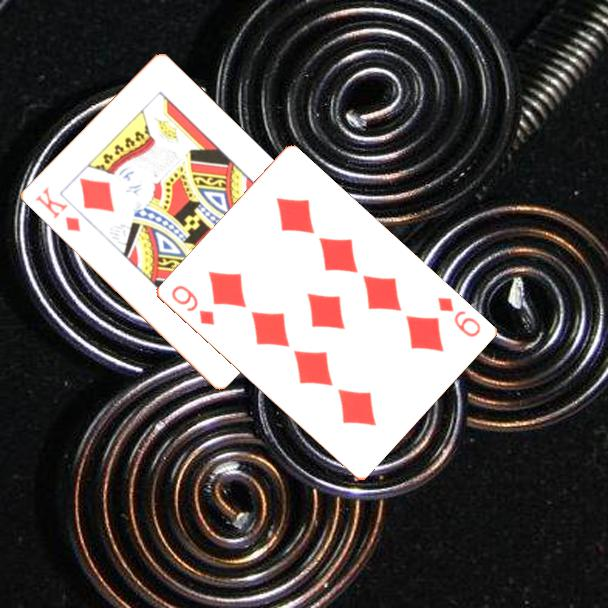d09: (167, 281, 217, 328), (433, 293, 483, 340)
d13: (31, 183, 83, 235)
